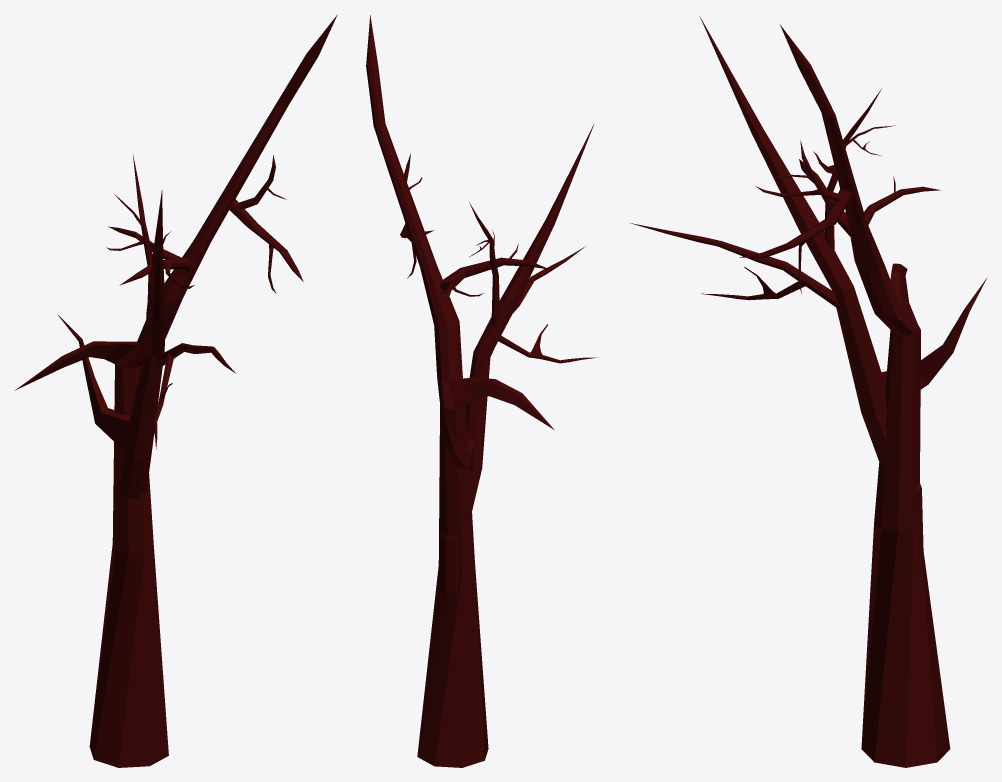
File: SM_Branches.fbx
3 views of the same model, side by side, from view 1: azimuth 30°, elevation 25°; view 2: azimuth 150°, elevation 25°; view 3: azimuth 270°, elevation 25° (orthographic). The views are drawn at different scales.
Visible parts, largest first — view 1: SM_Branch_01, SM_Branch_02; view 2: SM_Branch_01, SM_Branch_02; view 3: SM_Branch_01, SM_Branch_02.
Part boxes in pixels (x1=…): SM_Branch_01: x1=15, y1=14, x2=337, y2=767; SM_Branch_02: x1=57, y1=154, x2=235, y2=499; SM_Branch_01: x1=366, y1=15, x2=554, y2=767; SM_Branch_02: x1=438, y1=124, x2=599, y2=597; SM_Branch_01: x1=739, y1=24, x2=950, y2=767; SM_Branch_02: x1=630, y1=16, x2=987, y2=557.
Bounding box in the file's own units: 58.08 × 156 × 63.14.
